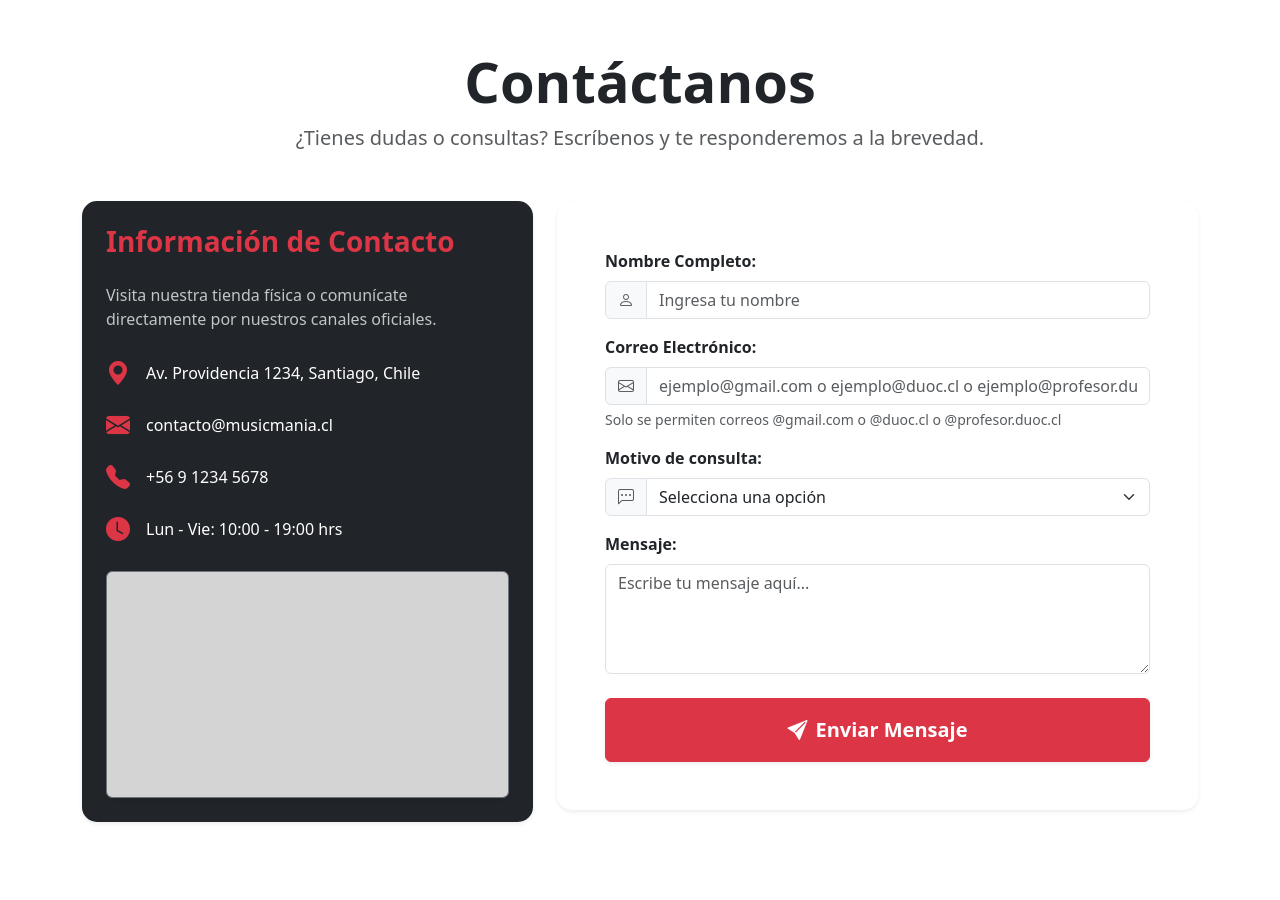
it: Prueba Unitaria - Vista Contacto › debe mostrar mensaje de error al ingresar un correo con dominio no permitido
# Llenar los campos obligatorios
Type "Juan Pérez" into the field with placeholder "Ingresa tu nombre" at [898, 300], box [646,281,1150,319]
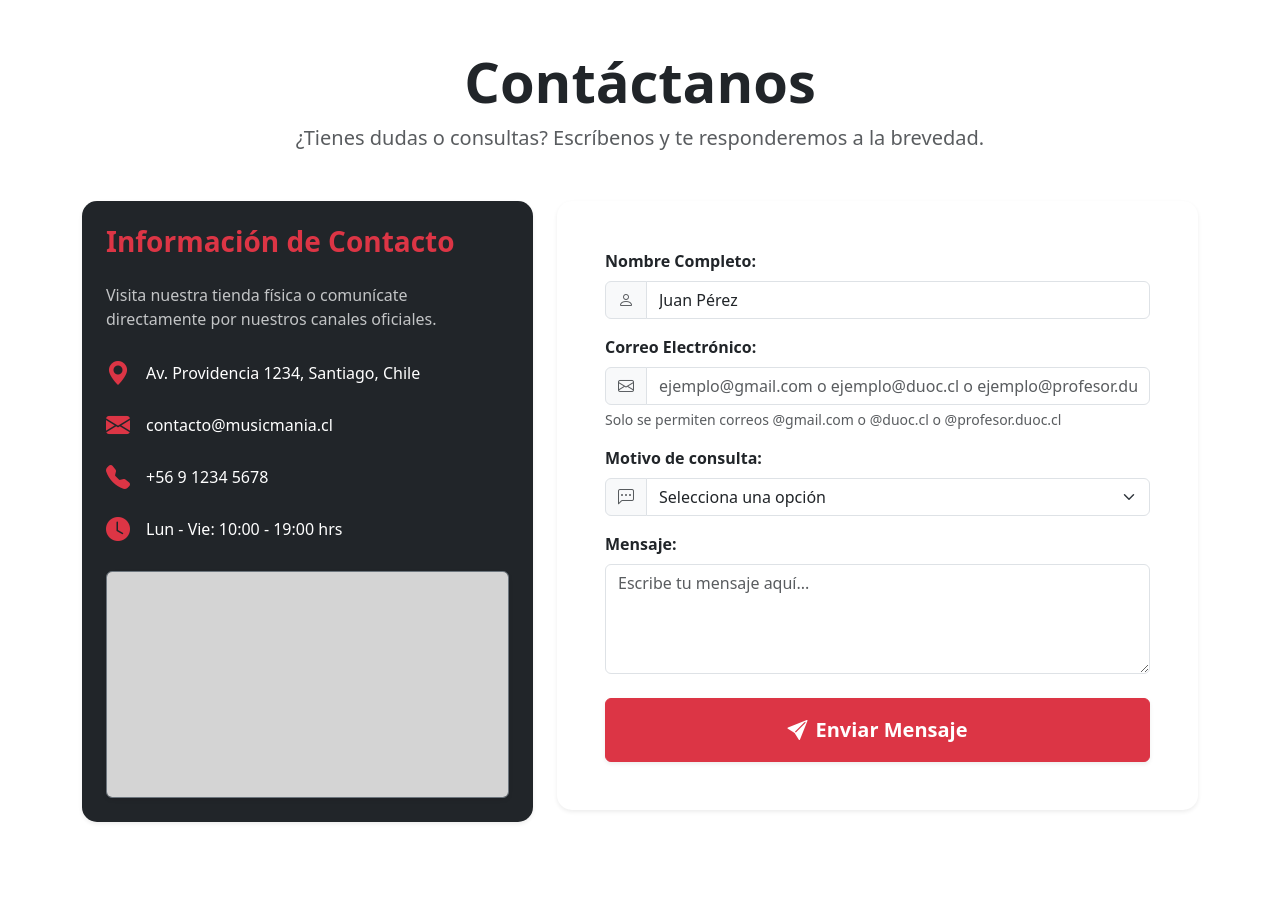
Replace the text in the field with placeholder "ejemplo@gmail.com" with "test@invalid.com" at [898, 386], box [646,367,1150,405]
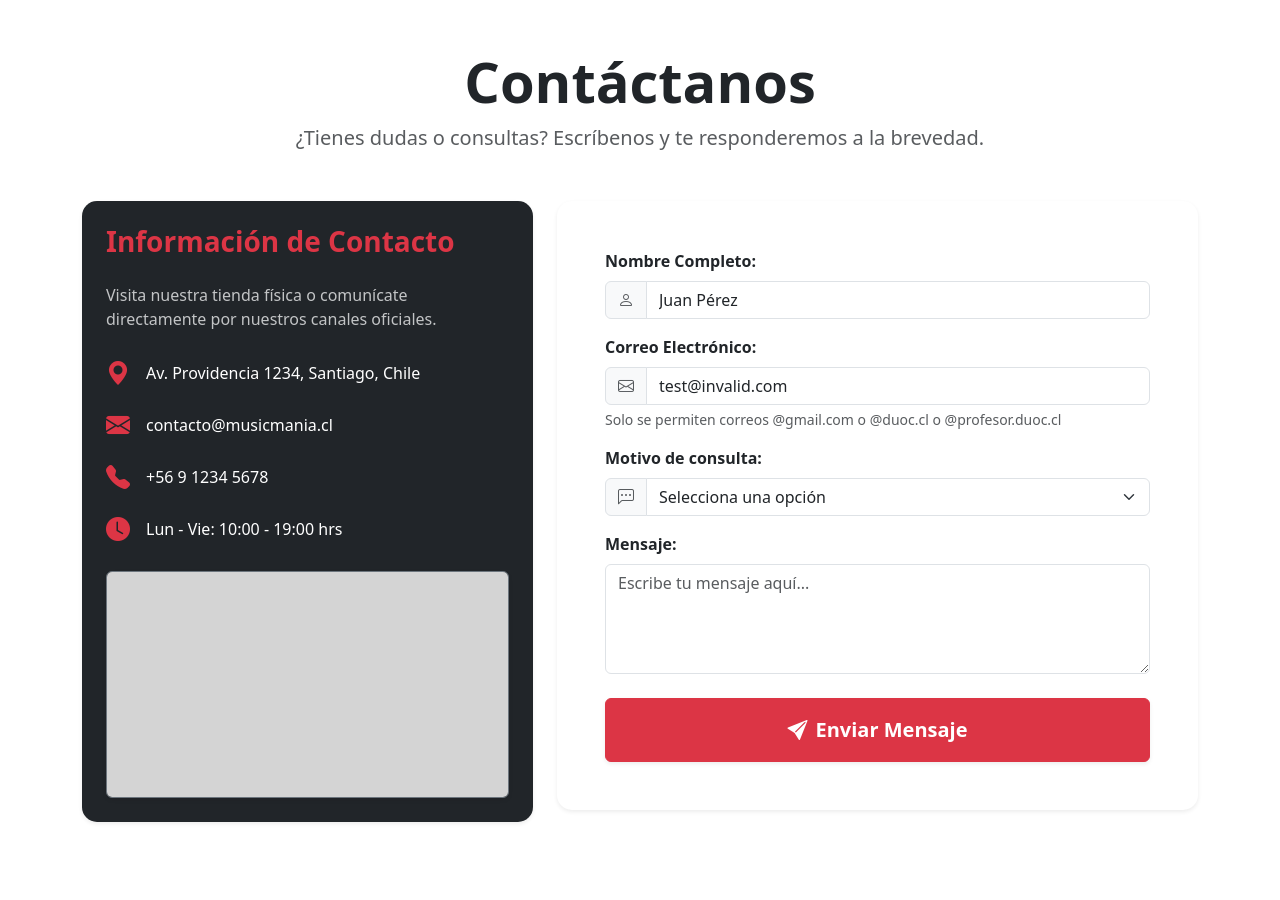
Select "Consulta General" in the dropdown at [898, 497], box [646,478,1150,516]
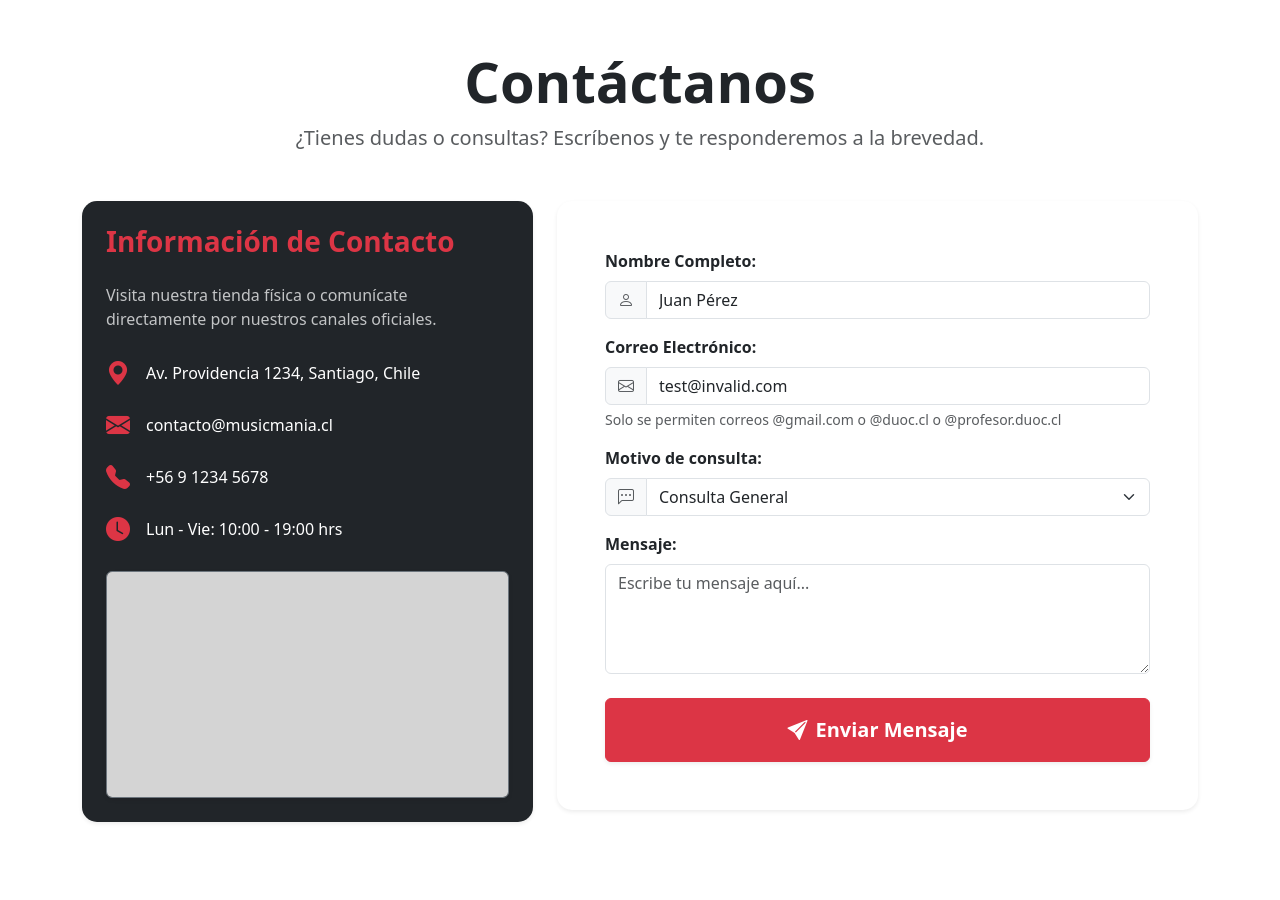
Type "Hola, tengo una consulta." into the text box with placeholder "Escribe tu mensaje aquí..." at [878, 619], box [605,564,1150,674]
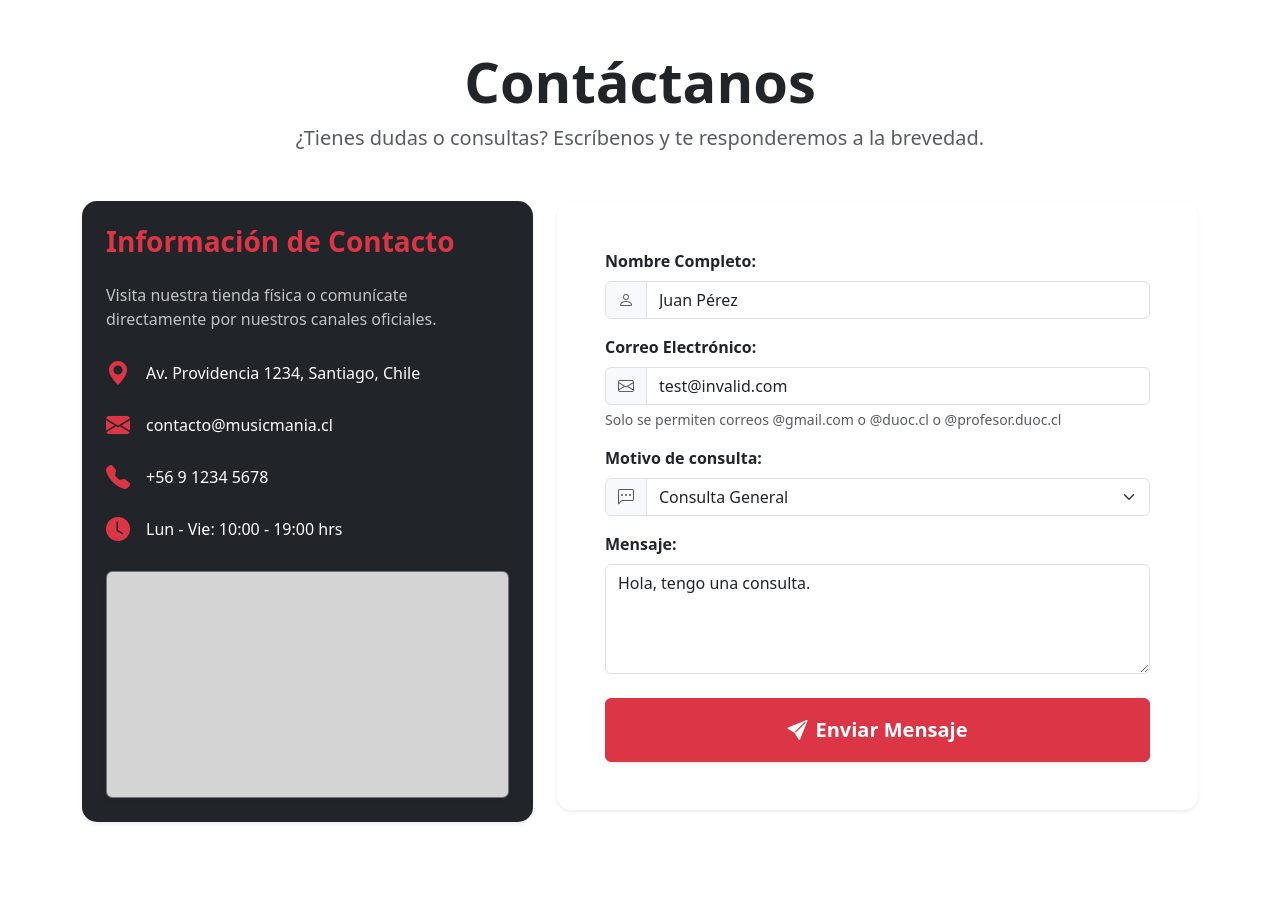
# Enviar el formulario
Click the button "Enviar Mensaje" at [878, 730], box [605,698,1150,762]
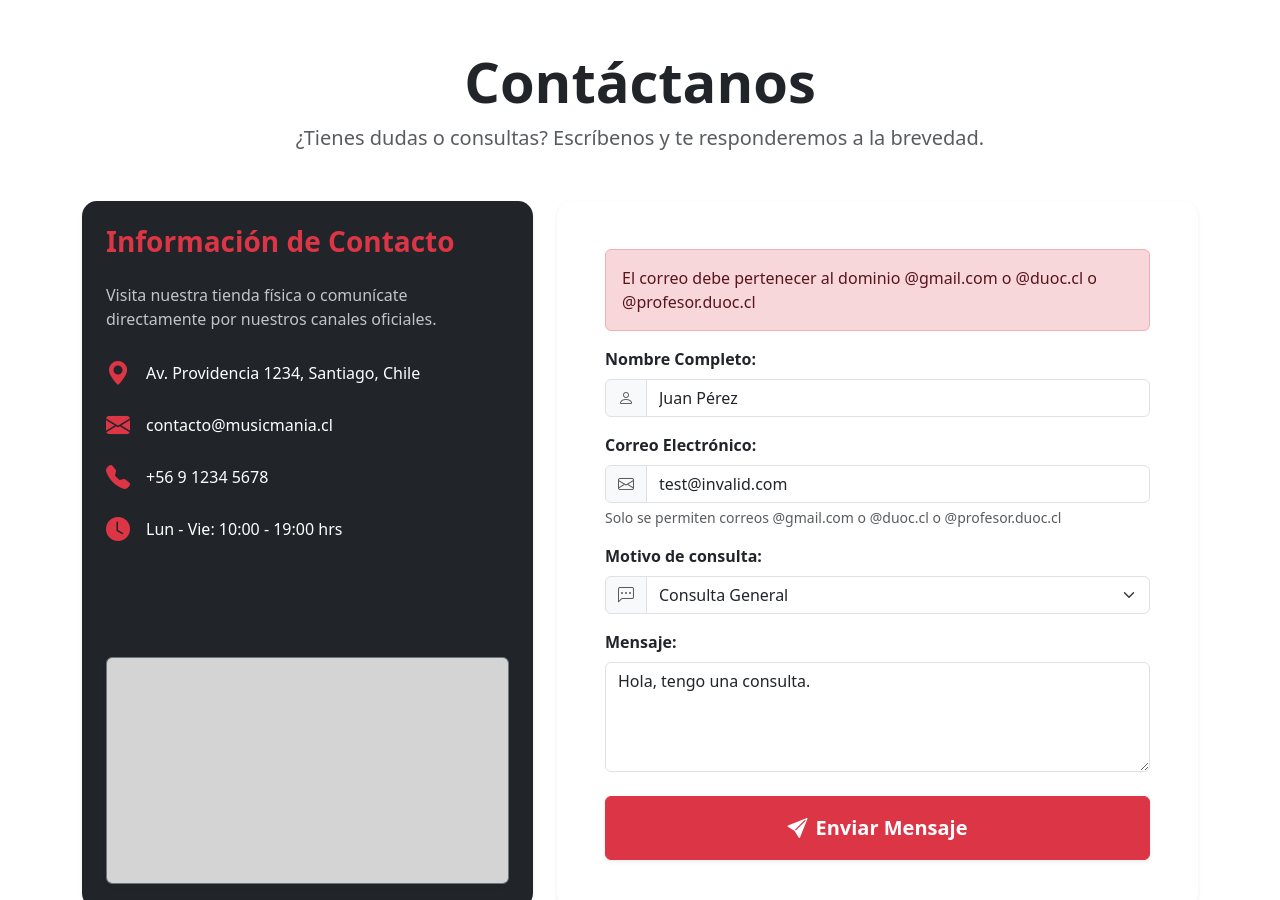
Check: the text "El correo debe pertenecer al dominio @gmail.com o @duoc.cl o @profesor.duoc.cl" is shown, box [605,249,1150,331]
